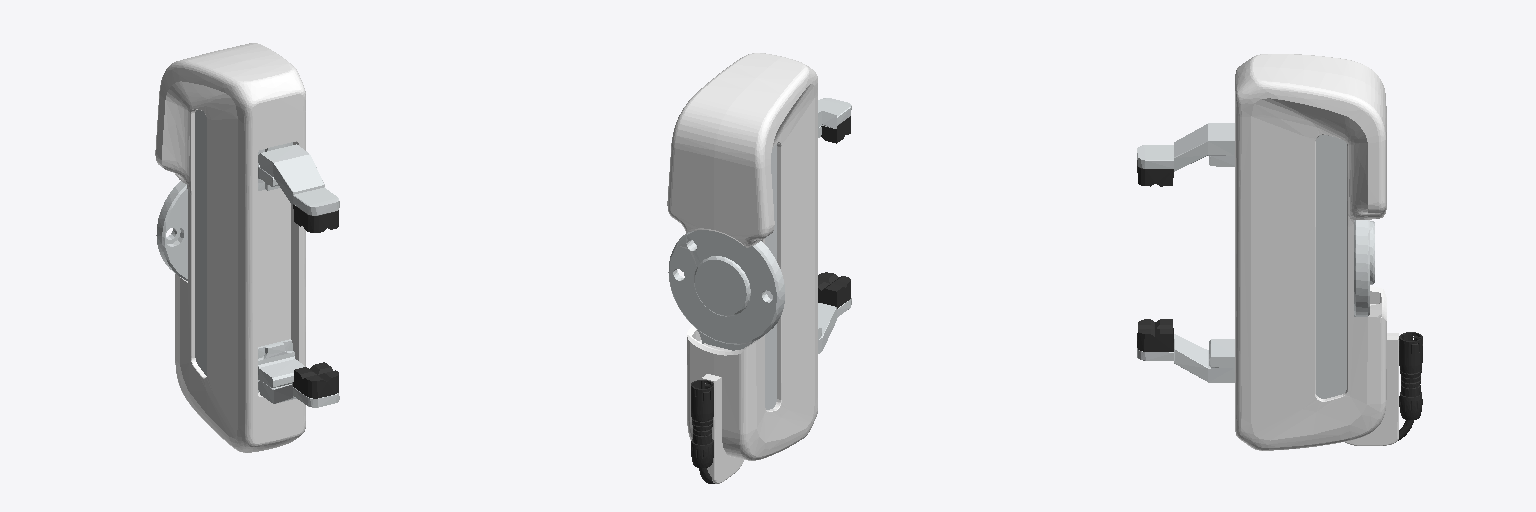
Rendered from fanka.obj.
3 views of the same model, side by side, from view 1: azimuth 30°, elevation 25°; view 2: azimuth 150°, elevation 25°; view 3: azimuth 270°, elevation 25° (orthographic).
Visible parts, largest first — view 1: hand; view 2: hand; view 3: hand.
Part boxes in pixels (left/top/right/bottom): hand: left=155, top=43, right=339, bottom=452; hand: left=667, top=53, right=851, bottom=483; hand: left=1137, top=54, right=1422, bottom=450.
Size of the model in its own units: 0.063 by 0.2045 by 0.1398.